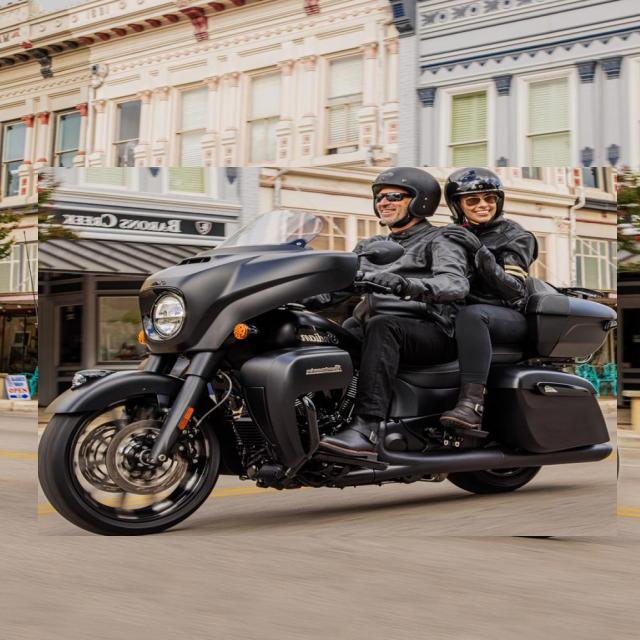motorcycle: (39, 167, 617, 536)
